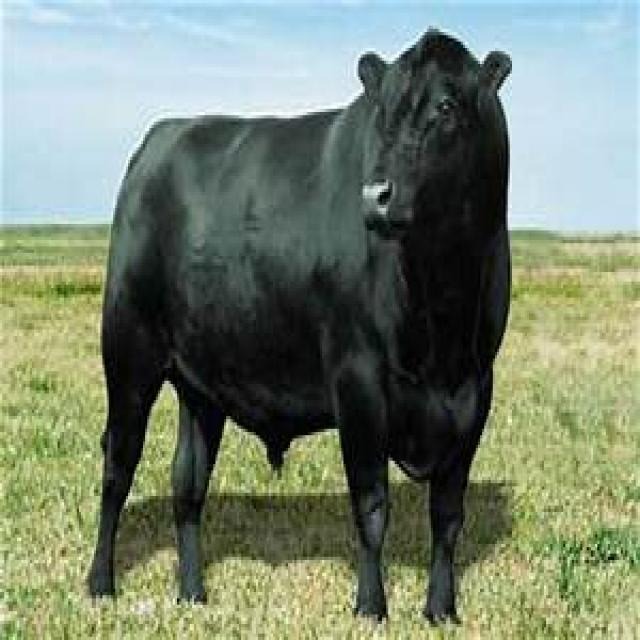cow: (83, 29, 514, 627)
